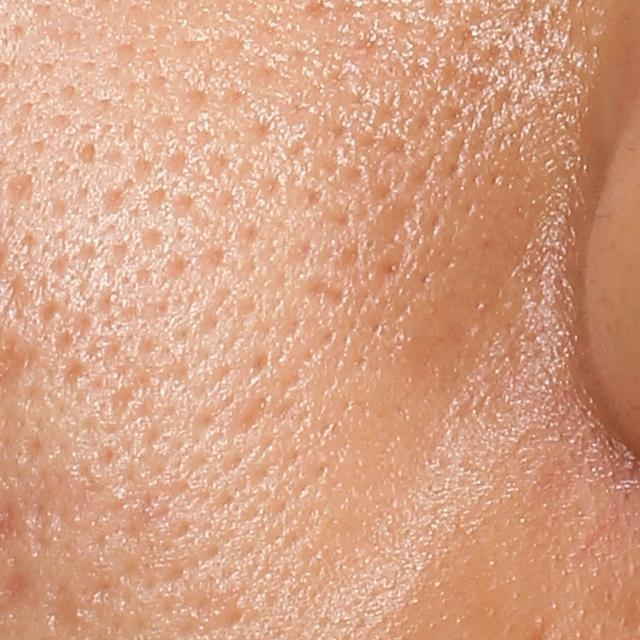atrophic_scar: (44, 580, 84, 639), (229, 392, 276, 438), (310, 277, 348, 312), (4, 171, 32, 212), (60, 360, 85, 397), (38, 300, 66, 326)
